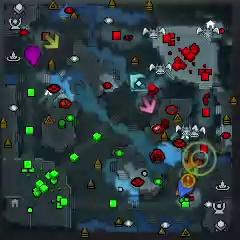p1: (178, 177, 195, 198)
p3: (24, 45, 42, 66)
x1: (138, 94, 156, 114)
x2: (43, 33, 59, 50)
x3: (130, 73, 146, 90)
x5: (183, 152, 199, 170)
